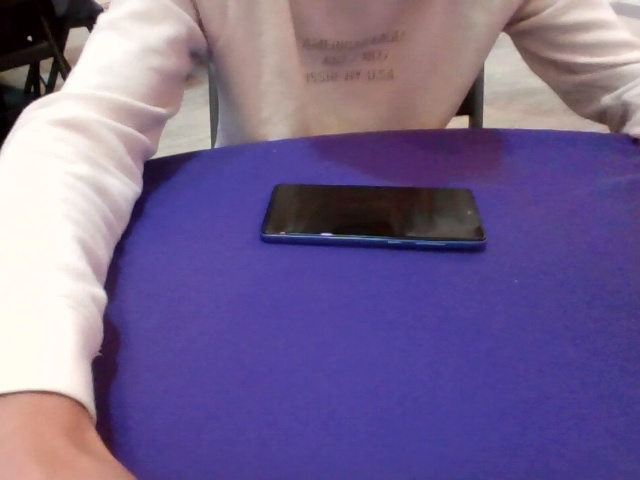celular: (260, 184, 485, 253)
